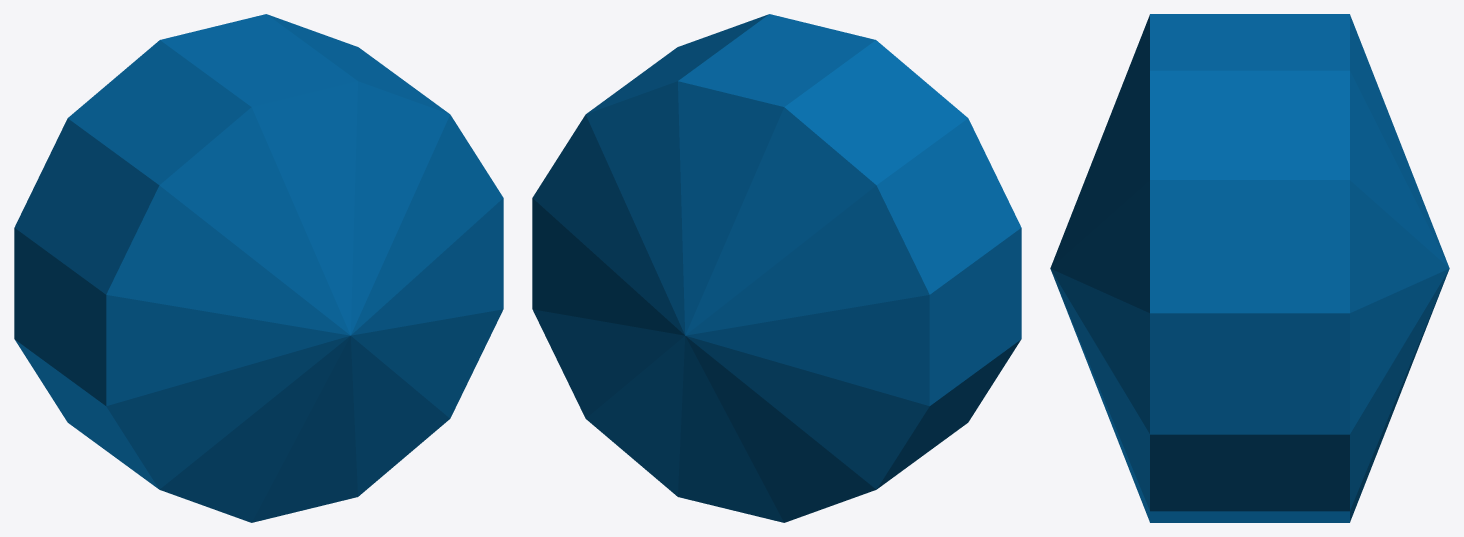
The model's file is 2025-10-04_lens-01.gltf.
The picture shows the model from 3 angles, left to right: view 1: azimuth 30°, elevation 25°; view 2: azimuth 150°, elevation 25°; view 3: azimuth 270°, elevation 25°; orthographic projection. The views are drawn at different scales.
Parts seen in each view (by area): view 1: lens; view 2: lens; view 3: lens.
Boxes of the visible parts, x1,y1,x2,y2 form: lens: (14,14,503,522); lens: (532,14,1021,522); lens: (1050,14,1449,522).
Bounding box in the file's own units: 0.3125 × 0.3125 × 0.25.
1 material, 1 textured.
